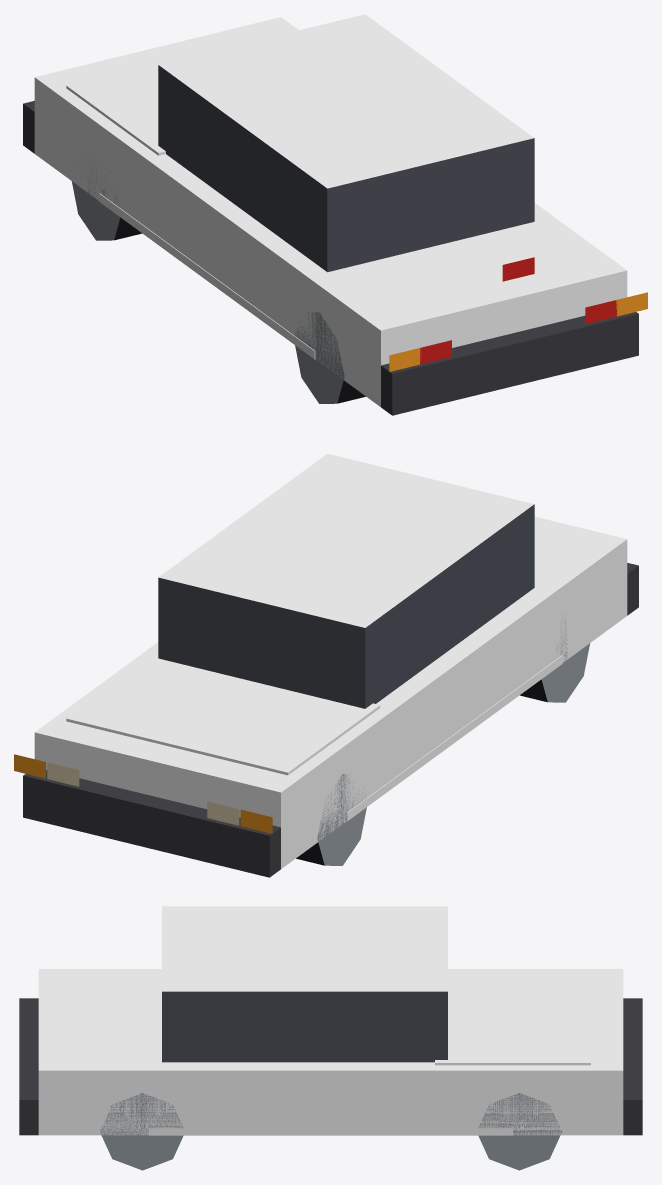
Rendered from calib_traffic.glb.
3 renders of one model, top to bottom at view 1: azimuth 30°, elevation 25°; view 2: azimuth 150°, elevation 25°; view 3: azimuth 270°, elevation 25°, orthographic. The views are drawn at different scales.
Visible parts, largest first — view 1: Body, Wheel_RL, Wheel_FL; view 2: Body, Wheel_FL, Wheel_RL; view 3: Body, Wheel_FR, Wheel_RR.
Boxes of the visible parts, x1,y1,x2,y2 form: Body: (23,14,647,415); Wheel_RL: (295,312,365,403); Wheel_FL: (71,150,141,240); Body: (14,453,638,877); Wheel_FL: (296,774,366,865); Wheel_RL: (520,615,590,702); Body: (19,906,642,1135); Wheel_FR: (478,1093,561,1170); Wheel_RR: (100,1093,183,1170).
Bounding box in the file's own units: 1.94 × 1.45 × 4.88.
